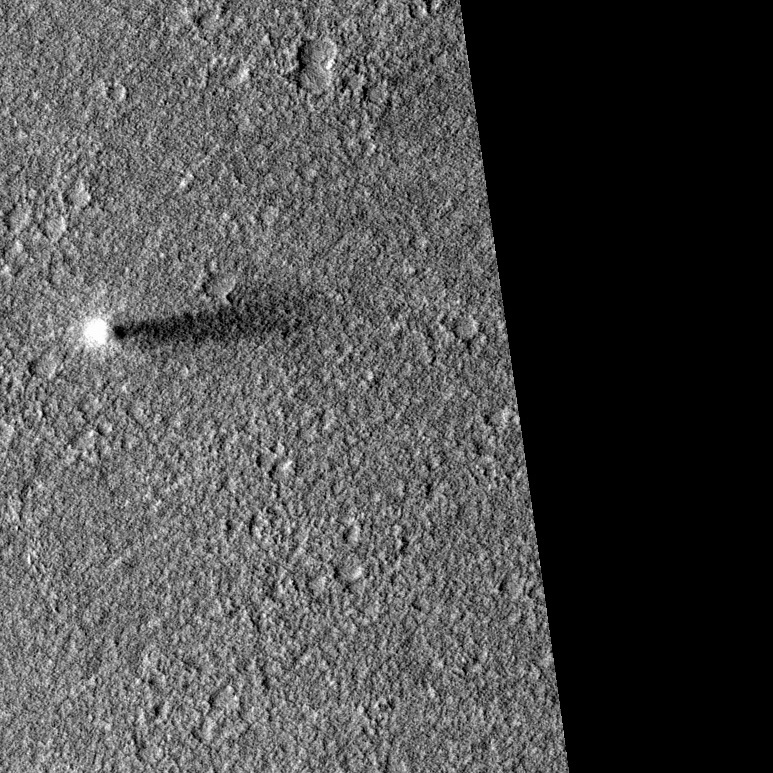dust_devil: (80, 294, 318, 349)
